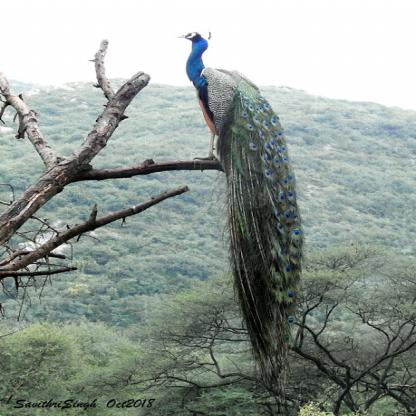Burung: (176, 26, 303, 403)
